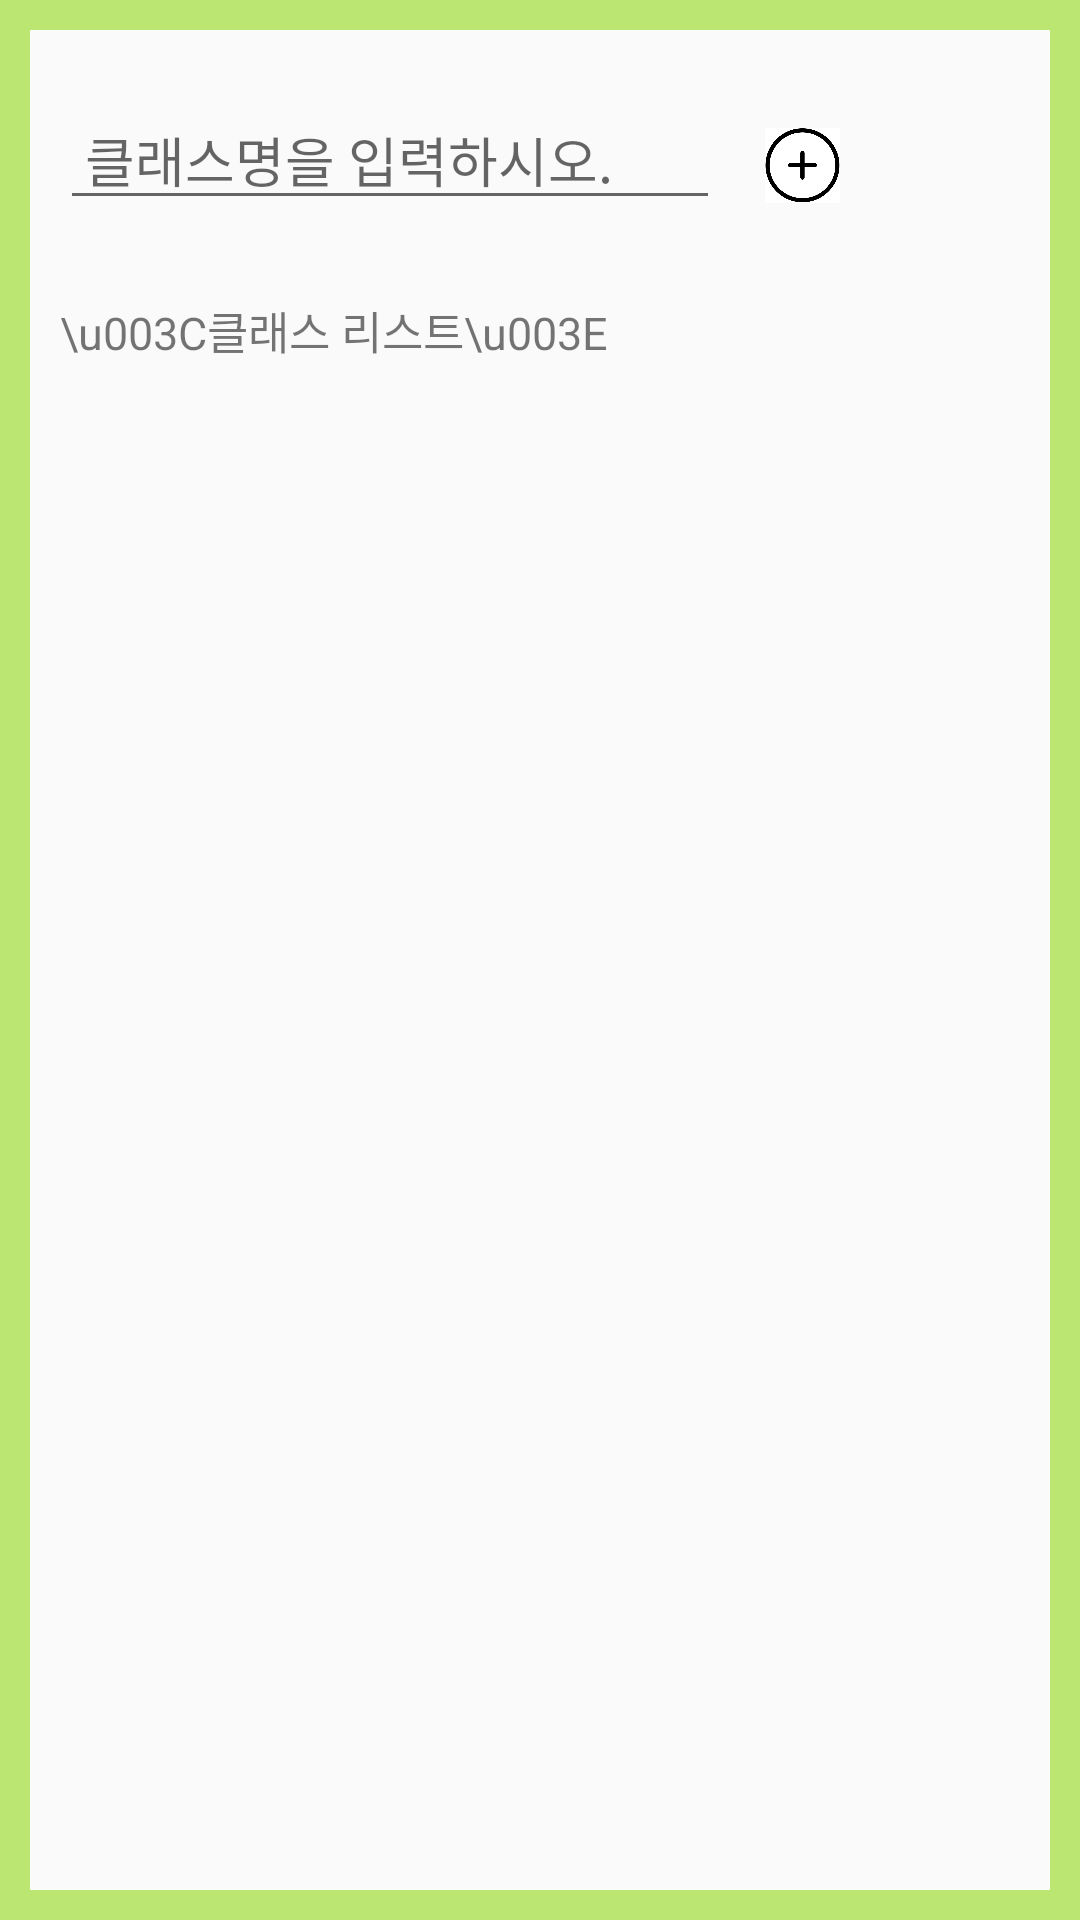

Point at icon controls on the screen. Image size 1080x1920, points as (x=x, y=y).
add: (x=802, y=165)
